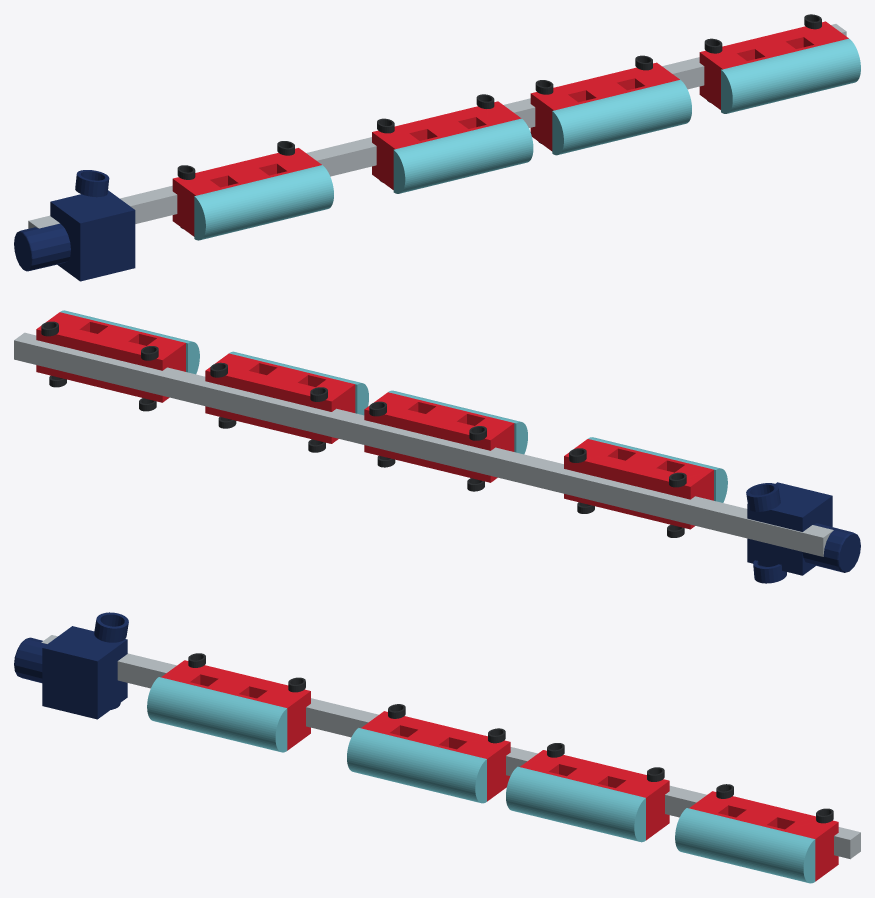
Rendered from tinker.obj.
3 renders of one model, top to bottom at view 1: azimuth 30°, elevation 25°; view 2: azimuth 150°, elevation 25°; view 3: azimuth 330°, elevation 25°, orthographic.
Parts seen in each view (by area): view 1: group_0_7720667, group_0_15277357, group_0_1650274, group_0_12568524, group_0_2829873; view 2: group_0_12568524, group_0_15277357, group_0_1650274, group_0_2829873, group_0_7720667; view 3: group_0_7720667, group_0_15277357, group_0_1650274, group_0_12568524, group_0_2829873.
Boxes of the visible parts, bbox=[...] form: group_0_7720667: bbox=[194, 38, 860, 240]; group_0_15277357: bbox=[172, 21, 848, 236]; group_0_1650274: bbox=[14, 170, 135, 281]; group_0_12568524: bbox=[28, 24, 846, 228]; group_0_2829873: bbox=[177, 14, 821, 228]; group_0_12568524: bbox=[14, 332, 833, 556]; group_0_15277357: bbox=[36, 312, 713, 529]; group_0_1650274: bbox=[746, 482, 860, 583]; group_0_2829873: bbox=[41, 321, 686, 537]; group_0_7720667: bbox=[60, 310, 727, 502]; group_0_7720667: bbox=[147, 677, 815, 883]; group_0_15277357: bbox=[161, 660, 838, 881]; group_0_1650274: bbox=[14, 612, 128, 719]; group_0_12568524: bbox=[41, 635, 860, 859]; group_0_2829873: bbox=[188, 653, 833, 823].
Bounding box in the file's own units: 406 × 41 × 41.
